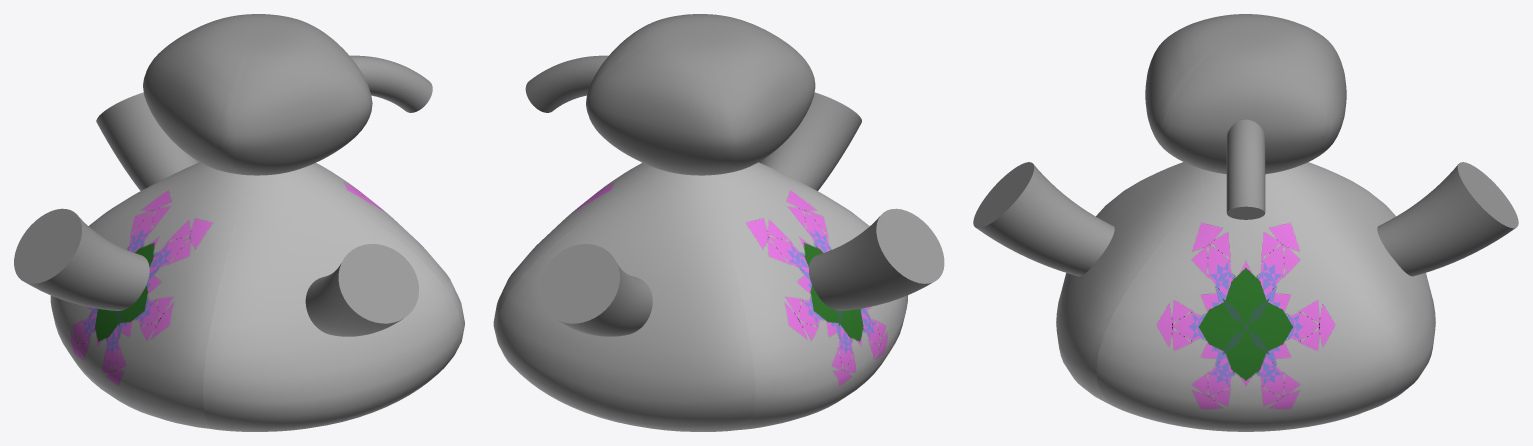
3 views of the same model, side by side, from view 1: azimuth 30°, elevation 25°; view 2: azimuth 150°, elevation 25°; view 3: azimuth 270°, elevation 25° (orthographic).
Visible parts, largest first — view 1: Box001, Box002, Cone004, Cone002, Cone003, Cone001; view 2: Box001, Box002, Cone004, Cone003, Cone002, Cone001; view 3: Box001, Box002, Cone002, Cone003, Cone001.
Boxes of the visible parts, <box> form: Box001: <box>50,162,464,431</box>; Box002: <box>143,14,372,175</box>; Cone004: <box>14,208,149,310</box>; Cone002: <box>305,244,418,336</box>; Cone003: <box>96,92,199,190</box>; Cone001: <box>350,55,432,112</box>; Box001: <box>493,162,907,431</box>; Box002: <box>586,14,815,175</box>; Cone004: <box>809,208,944,310</box>; Cone003: <box>539,244,652,336</box>; Cone002: <box>759,92,861,190</box>; Cone001: <box>525,55,608,112</box>; Box001: <box>1056,162,1435,431</box>; Box002: <box>1145,14,1346,174</box>; Cone002: <box>973,162,1114,276</box>; Cone003: <box>1377,162,1518,276</box>; Cone001: <box>1226,119,1265,219</box>.
Bounding box in the file's own units: 49.11 × 39.99 × 56.88.
Materials: 2 (1 with a texture image).
